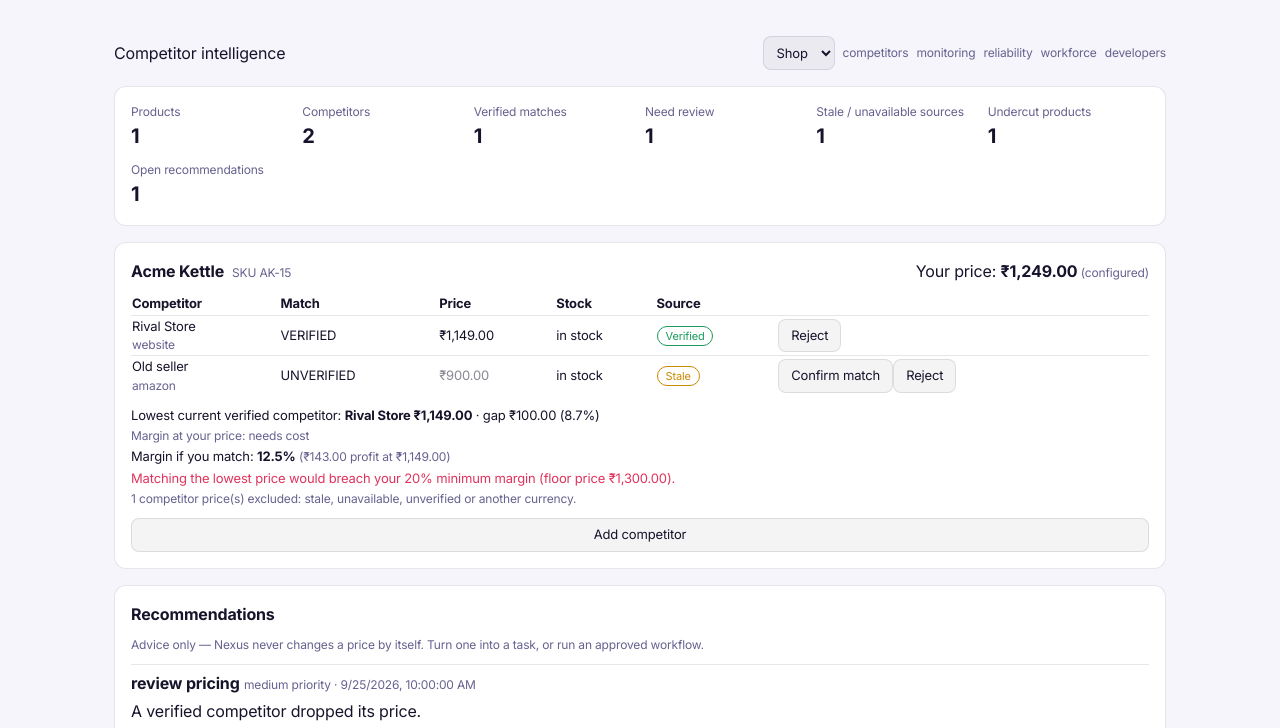
Test: CI admins can confirm matches and add products
Click the button "Confirm match" at {"x": 836, "y": 376}, box [778, 359, 893, 392]
(page scrolled)
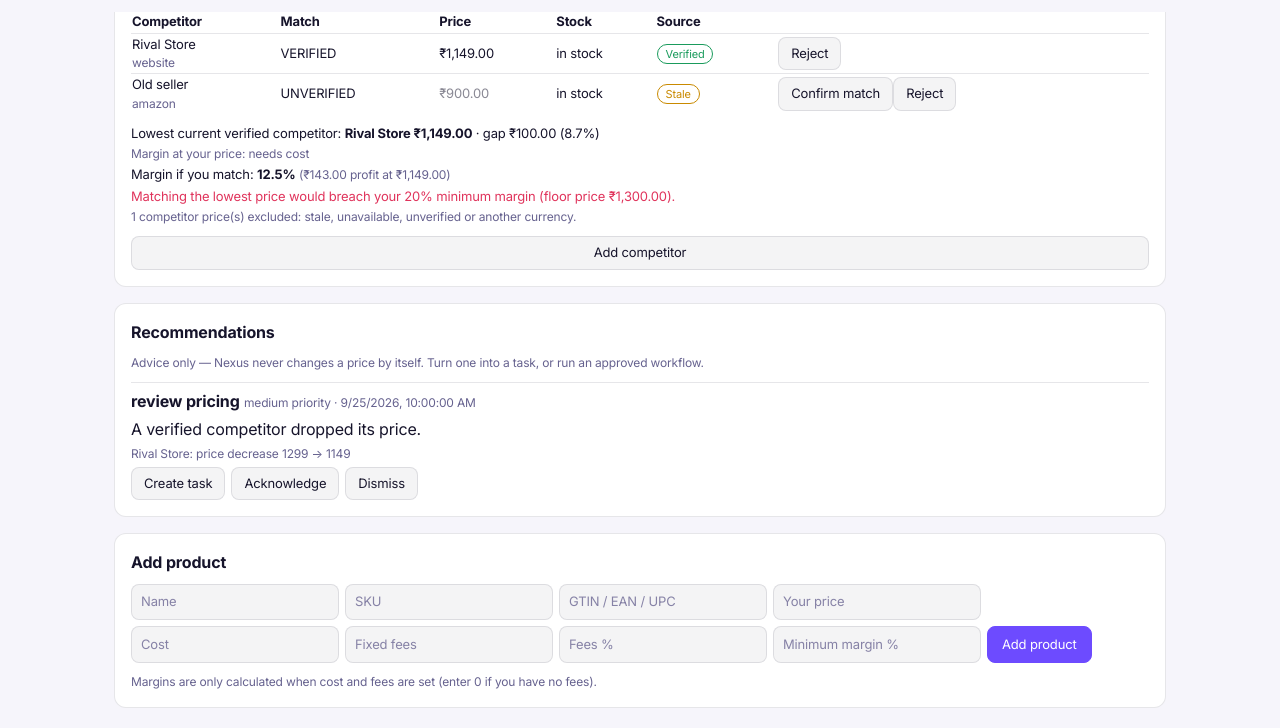
expect the form "Add product" is shown: met, box [114, 533, 1166, 708]
